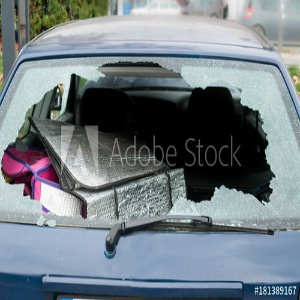rear_windshield_glass: (25, 76, 283, 212)
